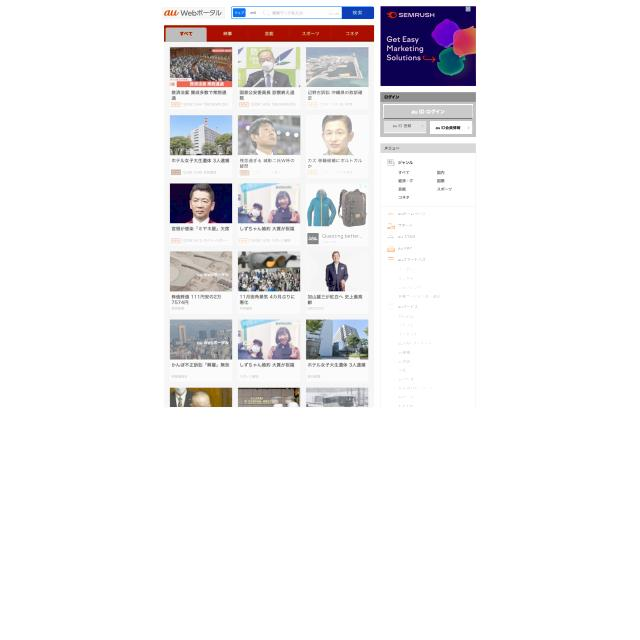CheckBox: (383, 105, 473, 118), (430, 121, 472, 134), (384, 122, 426, 134), (342, 7, 374, 19), (233, 8, 246, 17), (247, 8, 260, 17)
ImageView: (381, 6, 476, 86), (306, 183, 368, 246)
RadioButton: (239, 237, 249, 244), (171, 169, 181, 175), (240, 170, 250, 176), (306, 102, 316, 107)
Spinner: (380, 92, 476, 137), (306, 115, 368, 178), (238, 115, 300, 178), (306, 47, 368, 109)
TextView: (164, 42, 373, 408)
bag: (162, 0, 374, 25)
carousel: (264, 9, 270, 18)
copy: (306, 46, 368, 88), (238, 114, 300, 156), (237, 47, 300, 87), (306, 115, 369, 155)
date picker: (162, 7, 225, 19)
decoration: (384, 209, 444, 411)
footer: (272, 10, 304, 16)
icon: (164, 25, 374, 42)
